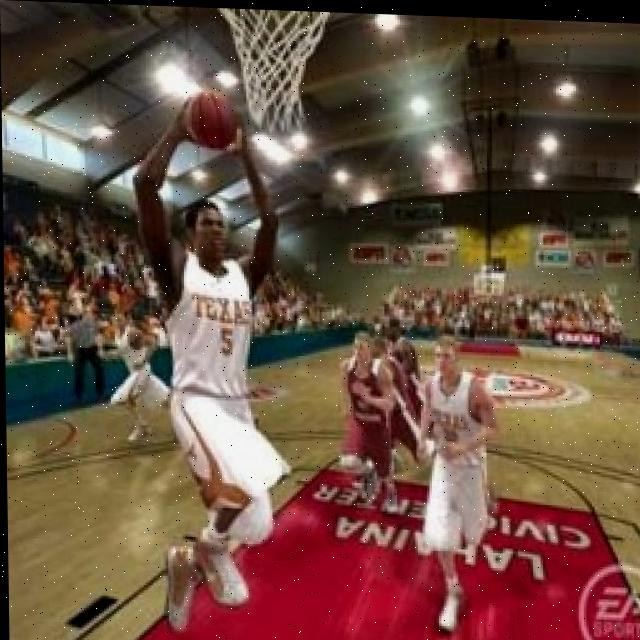basketball: (183, 90, 241, 147)
hoop: (215, 8, 338, 141)
